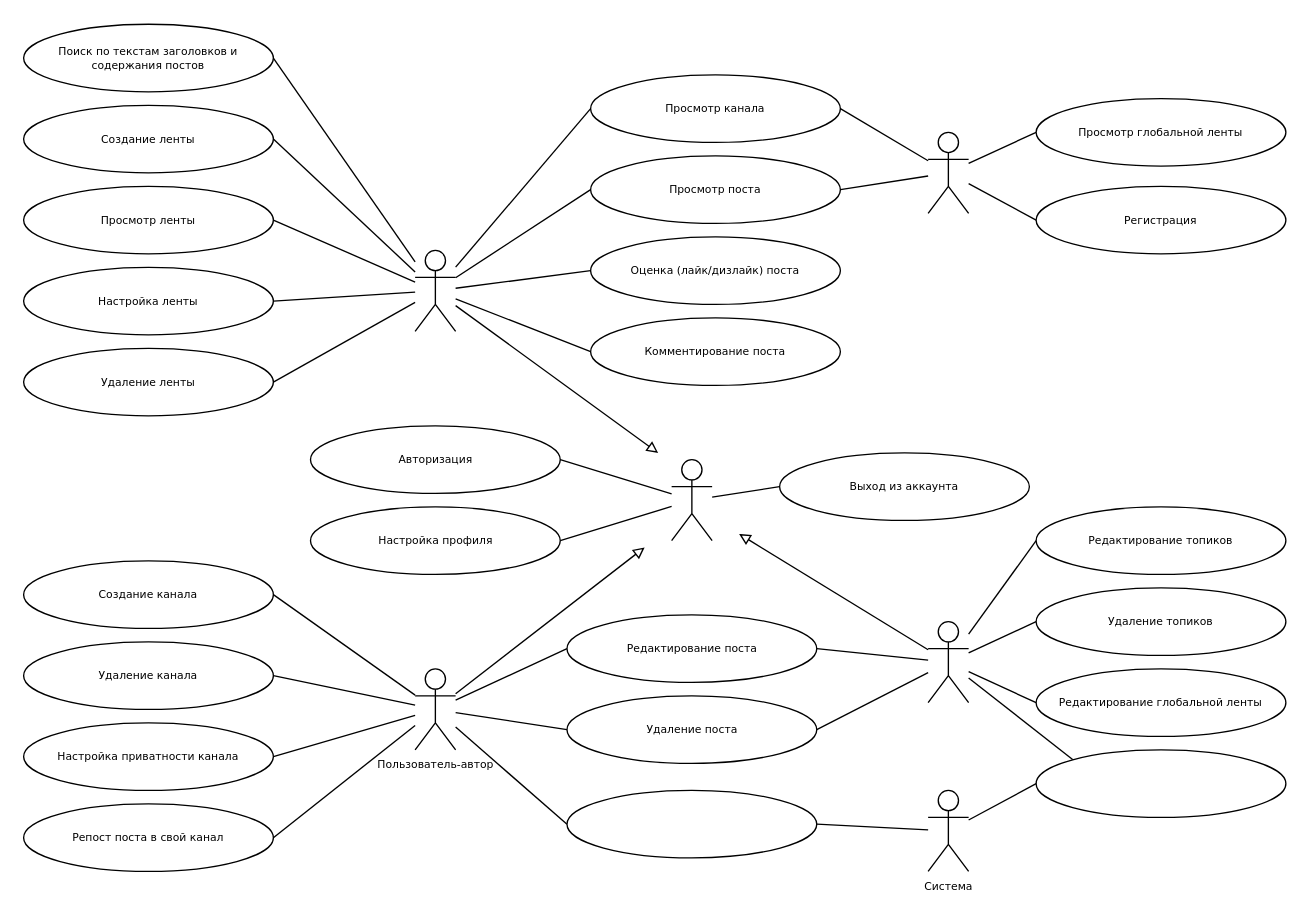
Image size: 1310x917. Some labels were removed from this diagram. Here are the shapes that lost their labels. From the top down, the centre of each, then its label:
At (948,172): "Гость".
At (435,290): "Пользователь-читатель".
At (691,499): "Пользователь".
At (948,661): "Администратор".
At (1160,783): "Создание топиков".
At (691,823): "Создание поста".
